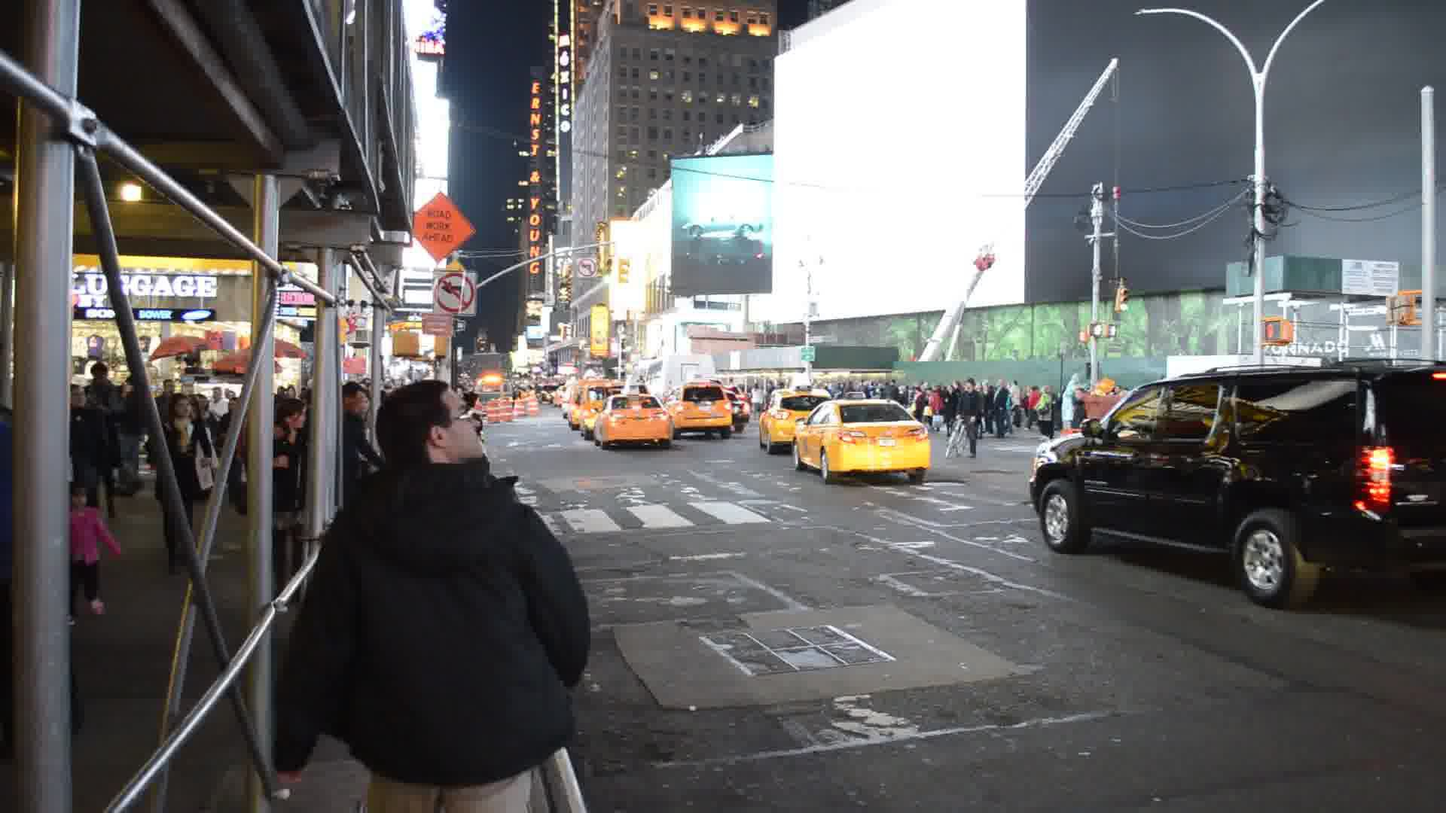bicycle: (944, 373, 982, 462)
car: (1031, 361, 1441, 604), (790, 388, 933, 481), (591, 387, 675, 452), (756, 385, 832, 455), (666, 377, 734, 443)
person: (269, 361, 600, 813), (1034, 382, 1057, 442), (993, 375, 1011, 441)
